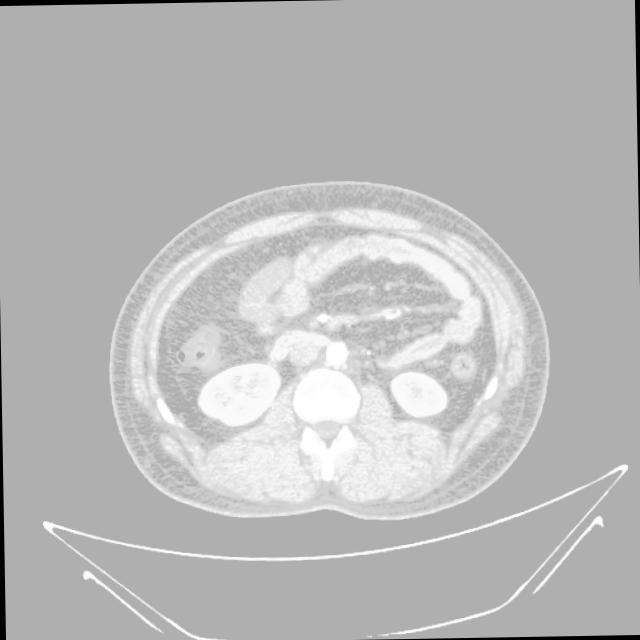NORMAL: (114, 182, 553, 519)
